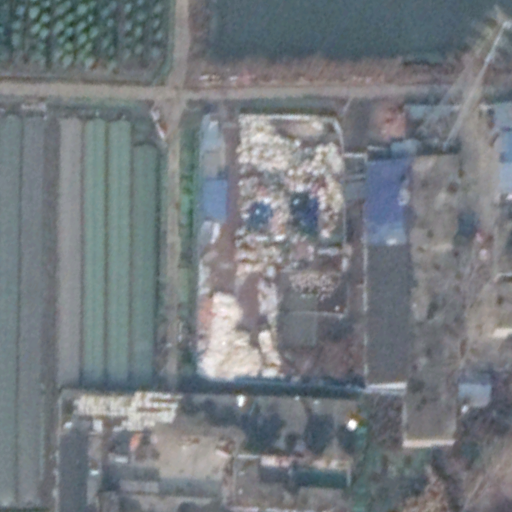msw: (239, 112, 352, 300)
